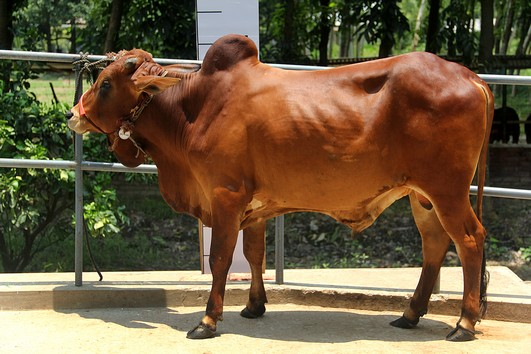cow: (58, 33, 497, 345)
